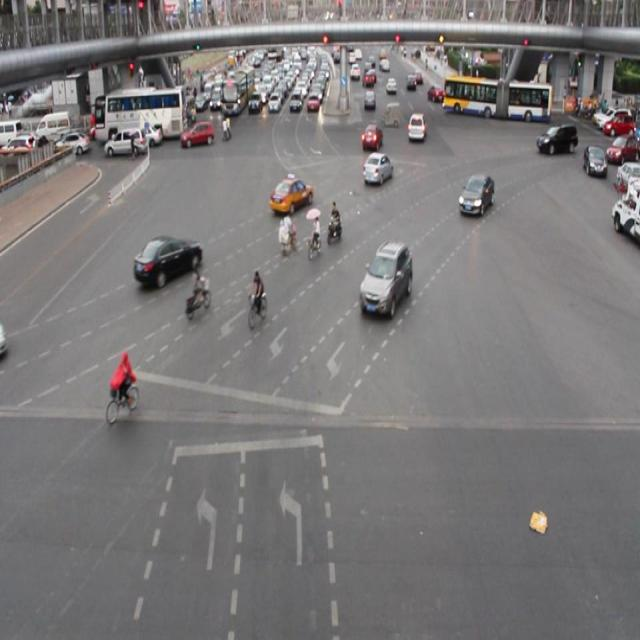car: (358, 241, 412, 318), (132, 232, 201, 286), (268, 173, 313, 216), (457, 174, 494, 218), (536, 122, 578, 157), (362, 152, 394, 188), (359, 121, 384, 153)
truck: (406, 110, 426, 142)
